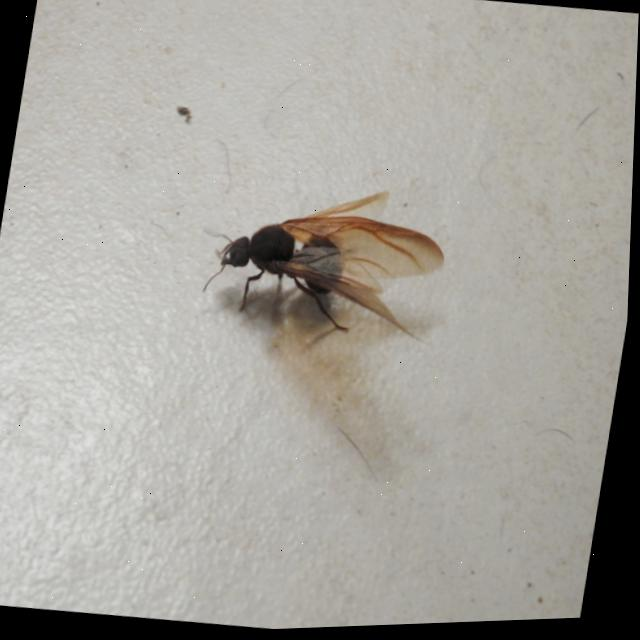Alive-Female-Alate: (189, 170, 458, 356)
